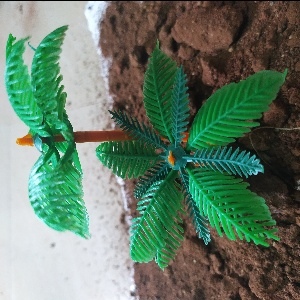plant: (4, 24, 293, 254)
